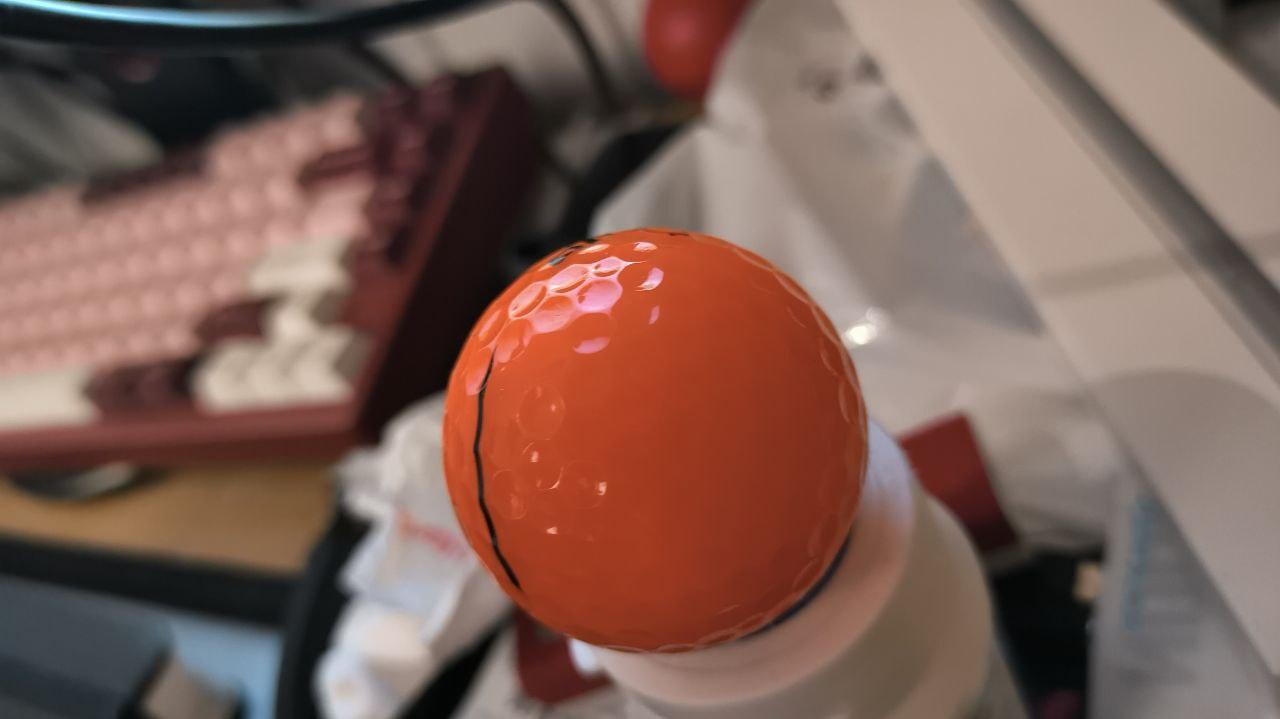orange_ball: (442, 227, 869, 654)
